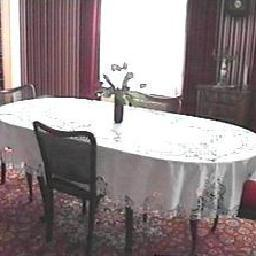Ventana: (96, 4, 185, 100)
